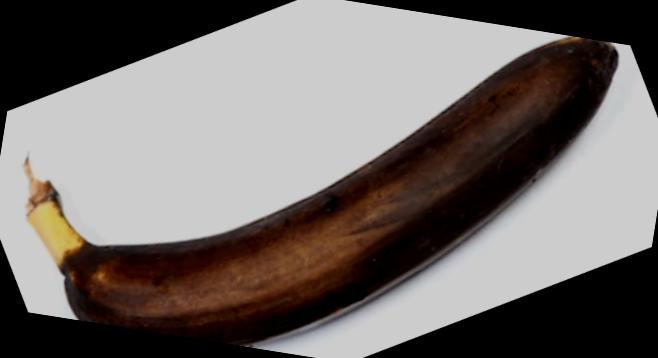Banana Overripe: (0, 0, 634, 358)
